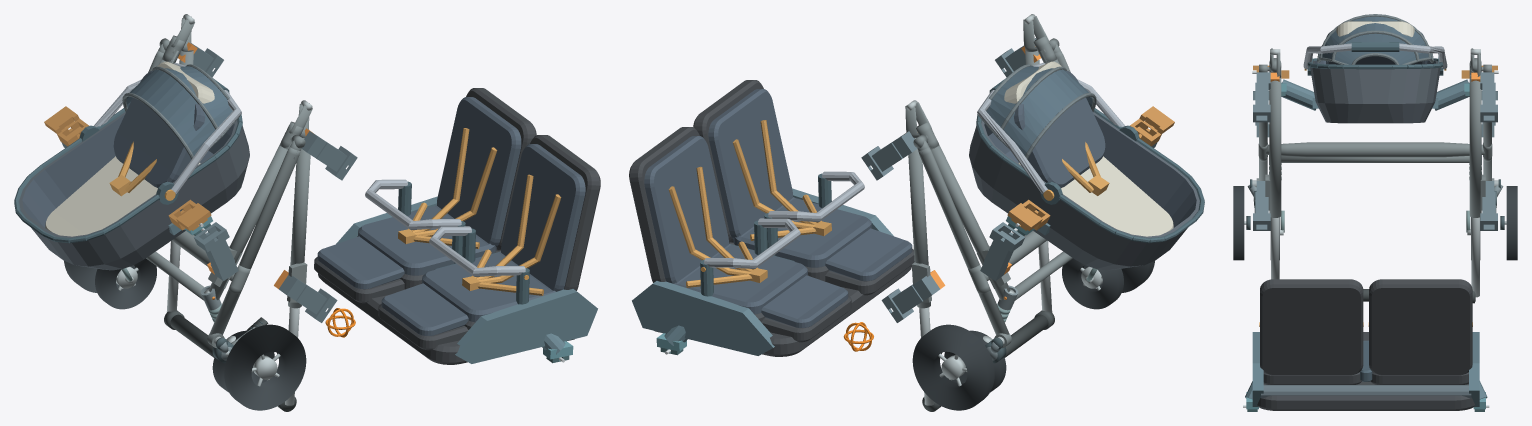
The model's file is D25_w650_state3_wheel_S.glb.
3 renders of one model, left to right at view 1: azimuth 30°, elevation 25°; view 2: azimuth 150°, elevation 25°; view 3: azimuth 270°, elevation 25°, orthographic. The views are drawn at different scales.
Parts seen in each view (by area): view 1: D25_Upper, D25_Lower, RL_tire.011, V46_rear_leg_-1.011, FR_tire.011, main_lower_-1.012, main_upper_-1.012, Universal_Cabin_Receiver_L_-1, Universal_Cabin_Receiver_H_-1, Universal_Cabin_Receiver_M_-1, D02_WideAdapter_L_1, D02_WideAdapter_L_-1 (+8 smaller); view 2: D25_Upper, D25_Lower, RR_tire.011, V46_rear_leg_1.011, FL_tire.011, main_lower_1.012, main_upper_1.012, Universal_Cabin_Receiver_L_1, Universal_Cabin_Receiver_H_1, Universal_Cabin_Receiver_M_1, D02_WideAdapter_L_-1, D02_WideAdapter_L_1 (+8 smaller); view 3: D25_Upper, D25_Lower, V46_rearbar.011, main_upper_1.012, main_upper_-1.012, D25_Lower_Mount_L, front_fixed_round_tube.011, RL_tire.011, RR_tire.011, Universal_Cabin_Receiver_M_-1, Universal_Cabin_Receiver_M_1, Universal_Cabin_Receiver_H_1 (+6 smaller).
Part boxes in pixels (<box>): D25_Upper: <box>314,88,600,364</box>; D25_Lower: <box>14,61,249,270</box>; RL_tire.011: <box>224,324,306,410</box>; V46_rear_leg_-1.011: <box>209,147,300,334</box>; FR_tire.011: <box>95,258,156,309</box>; main_lower_-1.012: <box>208,143,291,300</box>; main_upper_-1.012: <box>288,138,310,308</box>; Universal_Cabin_Receiver_L_-1: <box>194,222,238,280</box>; Universal_Cabin_Receiver_H_-1: <box>279,275,337,322</box>; Universal_Cabin_Receiver_M_-1: <box>301,131,357,180</box>; D02_WideAdapter_L_1: <box>44,106,88,146</box>; D02_WideAdapter_L_-1: <box>168,199,211,230</box>; D25_Upper: <box>629,80,914,356</box>; D25_Lower: <box>969,61,1204,270</box>; RR_tire.011: <box>912,324,994,410</box>; V46_rear_leg_1.011: <box>918,147,1009,334</box>; FL_tire.011: <box>1062,258,1123,309</box>; main_lower_1.012: <box>927,143,1010,300</box>; main_upper_1.012: <box>908,138,930,308</box>; Universal_Cabin_Receiver_L_1: <box>980,222,1024,280</box>; Universal_Cabin_Receiver_H_1: <box>881,275,940,322</box>; Universal_Cabin_Receiver_M_1: <box>861,131,917,180</box>; D02_WideAdapter_L_-1: <box>1130,106,1174,146</box>; D02_WideAdapter_L_1: <box>1007,199,1050,230</box>; D25_Upper: <box>1252,279,1479,410</box>; D25_Lower: <box>1303,14,1447,123</box>; V46_rearbar.011: <box>1266,142,1484,157</box>; main_upper_1.012: <box>1469,77,1481,217</box>; main_upper_-1.012: <box>1269,77,1281,217</box>; D25_Lower_Mount_L: <box>1281,79,1469,110</box>; front_fixed_round_tube.011: <box>1281,156,1469,162</box>; RL_tire.011: <box>1233,186,1244,260</box>; RR_tire.011: <box>1506,186,1517,260</box>; Universal_Cabin_Receiver_M_-1: <box>1253,72,1270,122</box>; Universal_Cabin_Receiver_M_1: <box>1480,72,1497,122</box>; Universal_Cabin_Receiver_H_1: <box>1480,181,1497,230</box>.
Size of the model in its own units: 1.33 by 0.7943 by 0.766.
